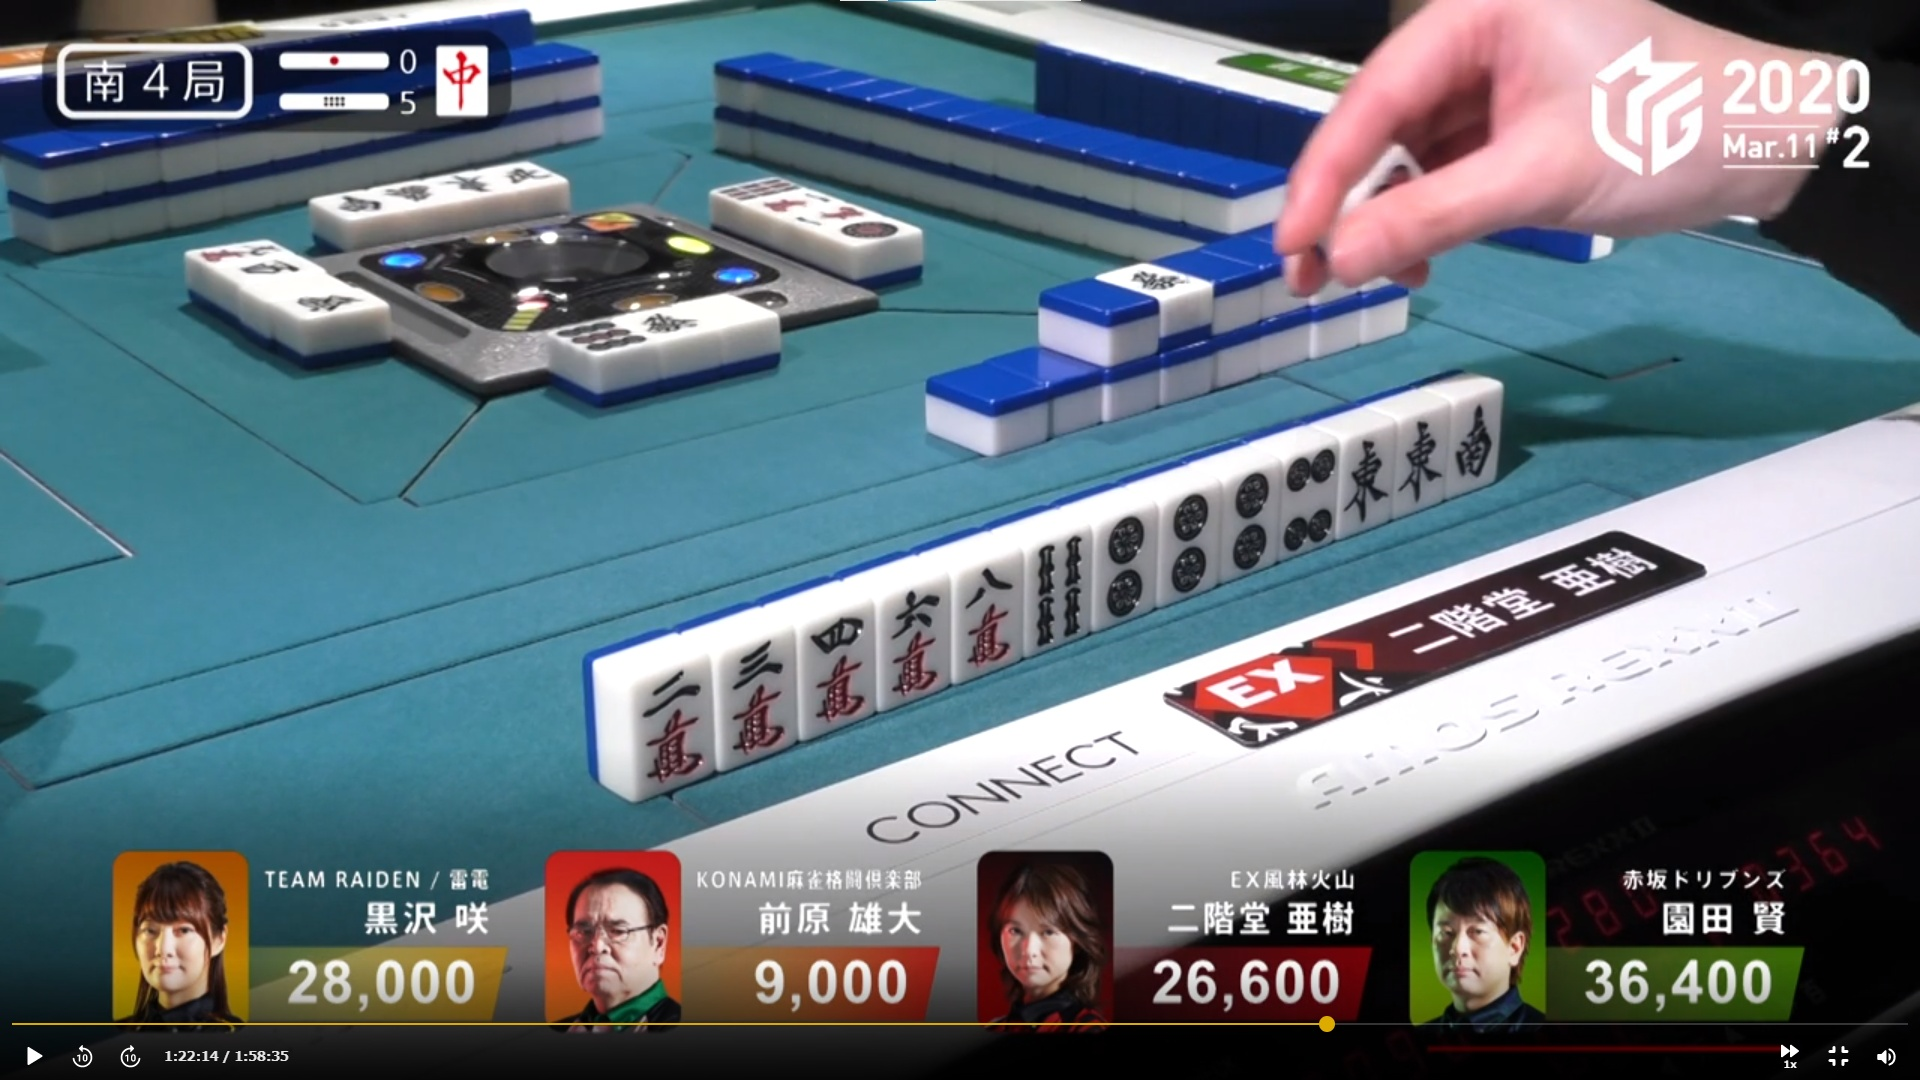2m: (628, 655, 707, 791)
2p: (1155, 481, 1218, 597), (1091, 510, 1151, 629), (1225, 464, 1274, 575)
3m: (709, 633, 793, 764)
4m: (800, 608, 869, 729)
4p: (1276, 439, 1332, 553)
4s: (1021, 531, 1088, 646)
6m: (877, 576, 944, 702)
8m: (948, 551, 1021, 680)
hand_nan_4: (40, 36, 262, 120)
nan: (1456, 393, 1499, 491)
round_5: (272, 84, 421, 119)
team_exfurinkazan: (1158, 624, 1414, 746)
ton: (1336, 423, 1394, 535), (1393, 411, 1448, 509)
